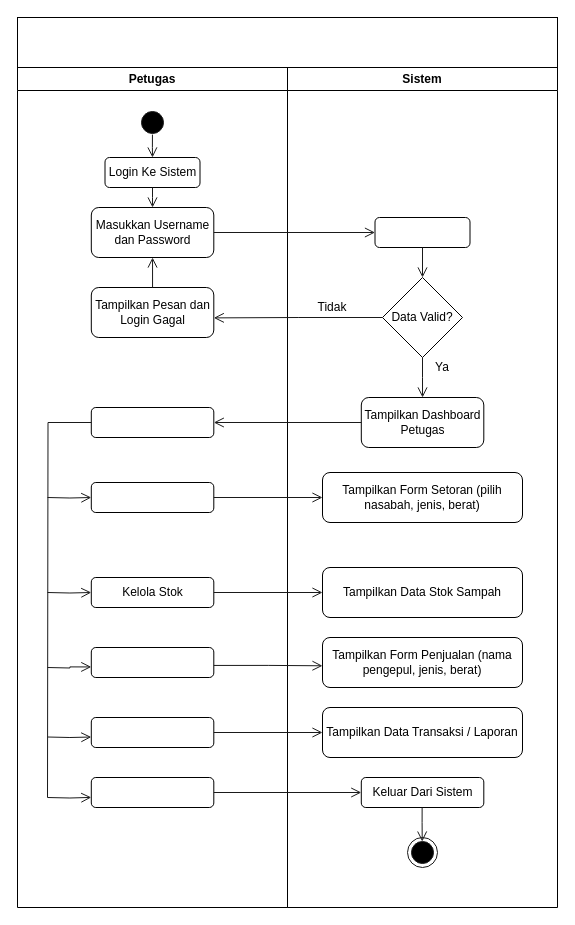
The diagram is 575 pixels wide and 925 high, and some of its shapes have lost their labels. Here are the shapes that lost their labels. From the top down, the centre of each, then its label:
At [287,42]: "Activity Diagram - Petugas".
At [422,232]: "Validasi Data Login".
At [152,422]: "Pilih Menu".
At [152,497]: "Setoran Sampah".
At [152,662]: "Penjualan Sampah".
At [152,732]: "Lihat Transaksi / Laporan".
At [152,792]: "Logout".
